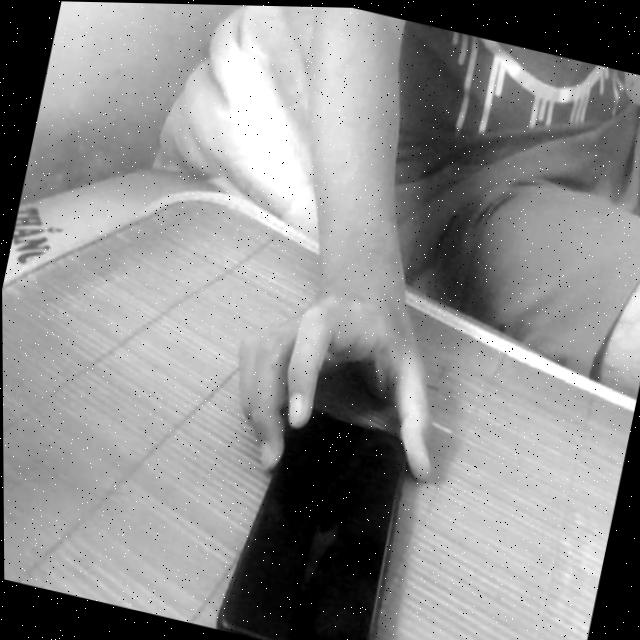phone: (204, 381, 441, 640)
